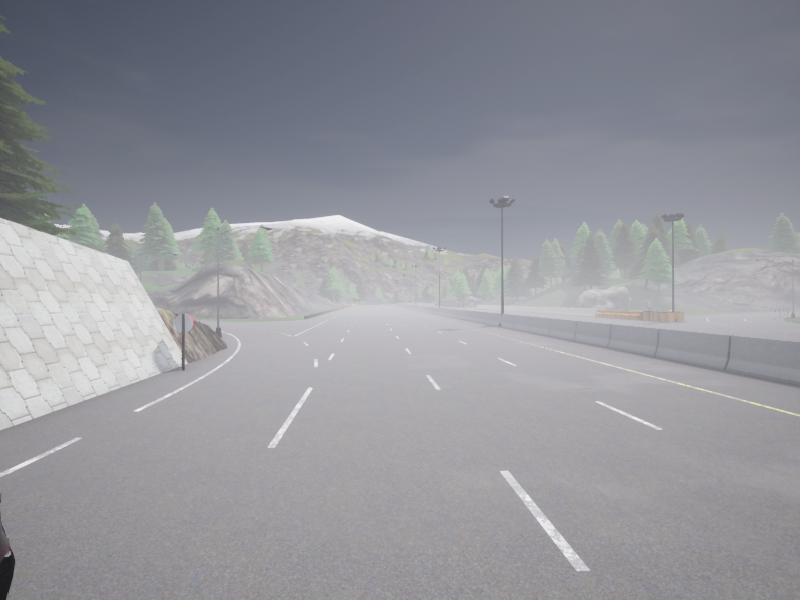vehicle: (0, 491, 15, 599)
